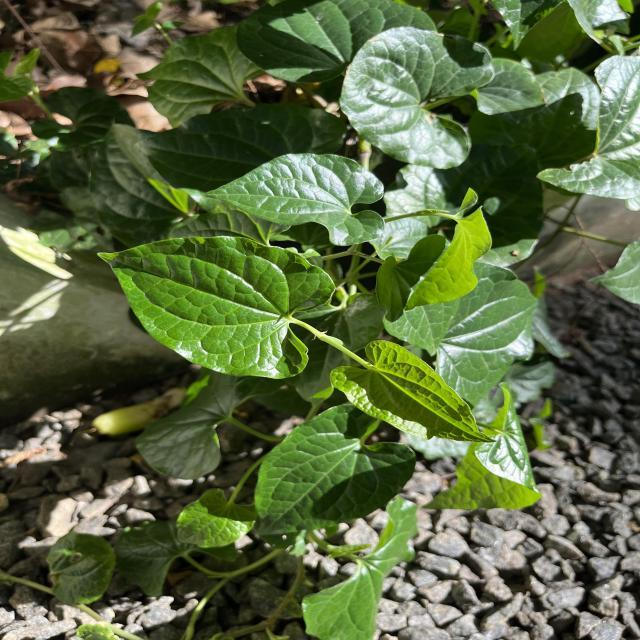Piper longum: (95, 234, 337, 382), (328, 338, 500, 446), (201, 151, 388, 247)
